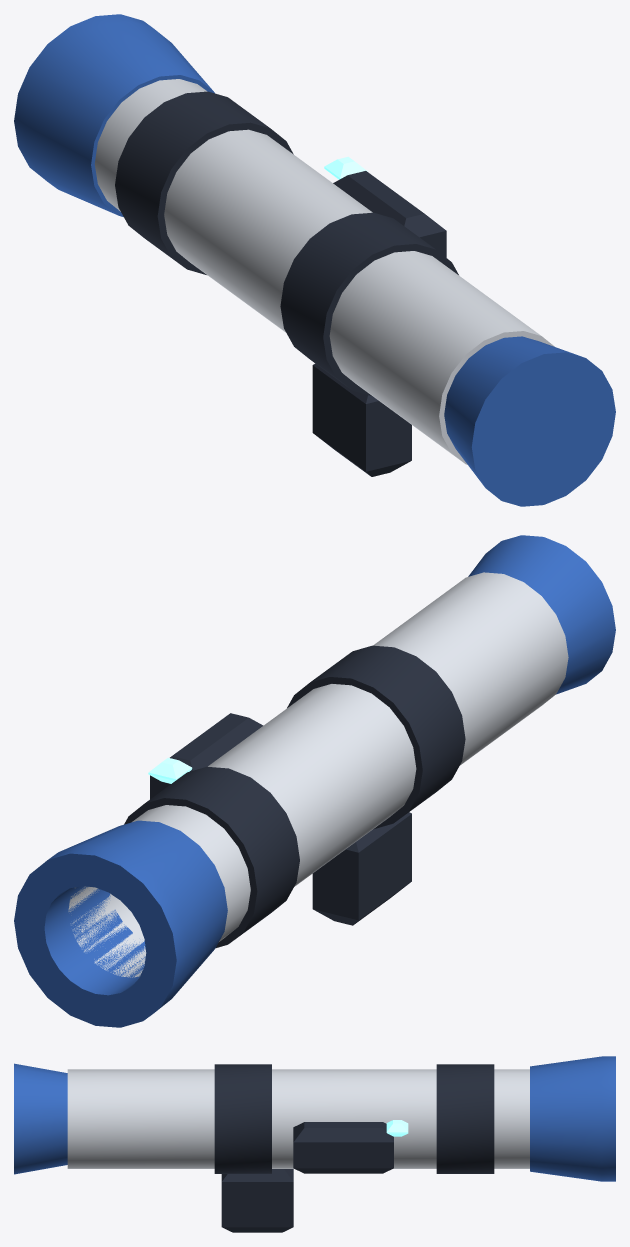
The model's file is w_a_raid_bazooka.glb.
3 views of the same model, one above another, from view 1: azimuth 30°, elevation 25°; view 2: azimuth 150°, elevation 25°; view 3: azimuth 270°, elevation 25° (orthographic). The views are drawn at different scales.
Visible parts, largest first — view 1: weapon_body, weapon_team_color; view 2: weapon_body, weapon_team_color, weapon; view 3: weapon_body, weapon_team_color, weapon.
Boxes of the visible parts, bbox=[...] form: weapon_body: bbox=[14, 14, 615, 506]; weapon_team_color: bbox=[94, 79, 554, 464]; weapon_body: bbox=[14, 535, 615, 1027]; weapon_team_color: bbox=[68, 572, 568, 977]; weapon: bbox=[148, 757, 192, 783]; weapon_body: bbox=[14, 1056, 615, 1232]; weapon_team_color: bbox=[67, 1069, 529, 1168]; weapon: bbox=[386, 1120, 408, 1136].
Size of the model in its own units: 1.25 by 1.55 by 5.04.
